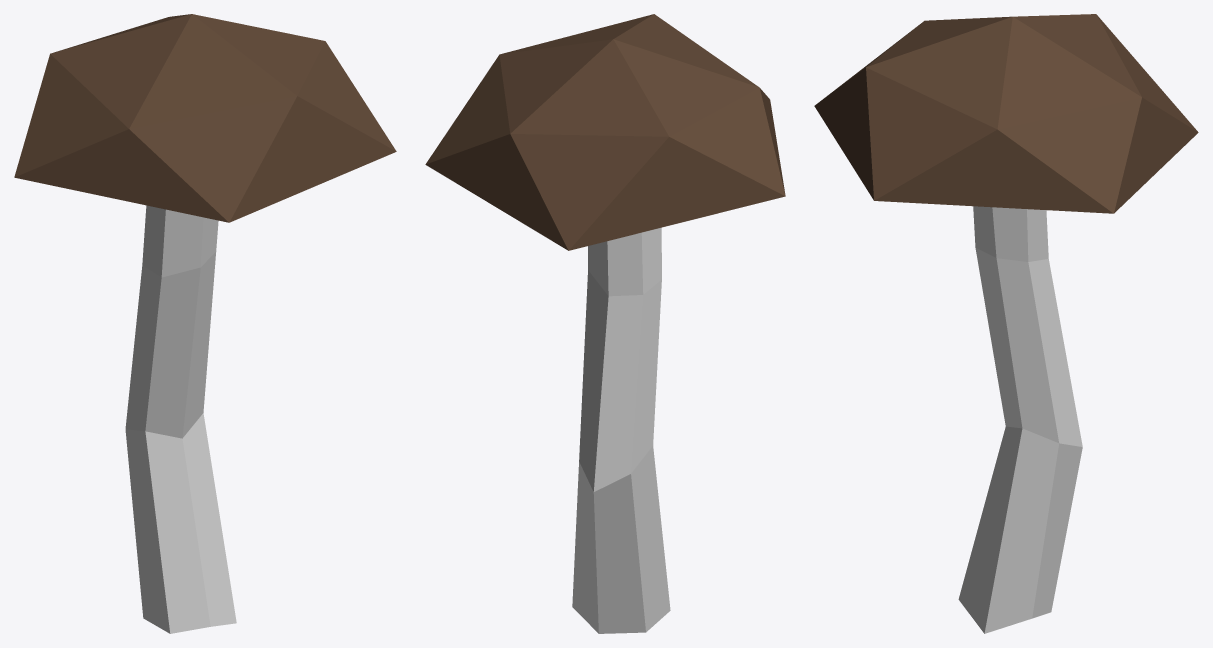
File: mushroom3.glb
The picture shows the model from 3 angles, left to right: view 1: azimuth 30°, elevation 25°; view 2: azimuth 150°, elevation 25°; view 3: azimuth 270°, elevation 25°; orthographic projection. The views are drawn at different scales.
Visible parts, largest first — view 1: mushroom3; view 2: mushroom3; view 3: mushroom3.
Part boxes in pixels (x1=…): mushroom3: x1=14, y1=14, x2=396, y2=633; mushroom3: x1=425, y1=14, x2=785, y2=633; mushroom3: x1=814, y1=14, x2=1198, y2=633.
Size of the model in its own units: 0.2569 by 0.4618 by 0.2671.
